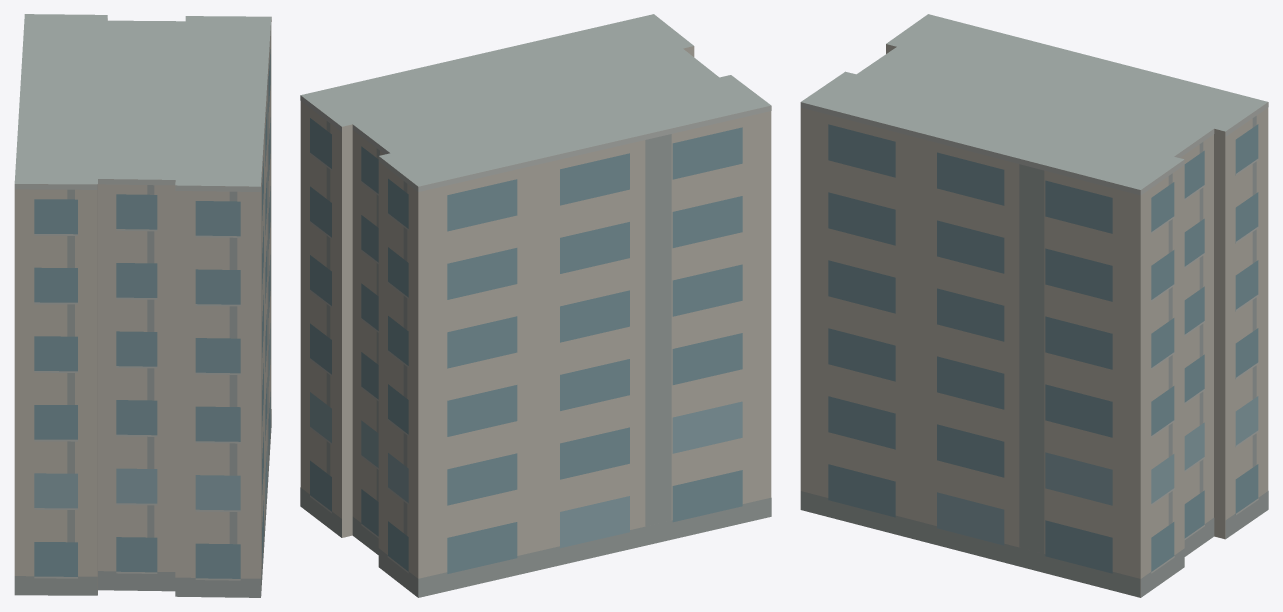
File: survey-upis-32747392.glb
3 views of the same model, side by side, from view 1: azimuth 30°, elevation 25°; view 2: azimuth 150°, elevation 25°; view 3: azimuth 270°, elevation 25° (orthographic).
Visible parts, largest first — view 1: survey-upis-32747392.tmp; view 2: survey-upis-32747392.tmp; view 3: survey-upis-32747392.tmp.
Part boxes in pixels (box(x1,y1,x2,y2)): survey-upis-32747392.tmp: box(14, 14, 271, 597); survey-upis-32747392.tmp: box(300, 14, 771, 597); survey-upis-32747392.tmp: box(800, 14, 1268, 597).
Bounding box in the file's own units: 16.96 × 18.3 × 19.03.
